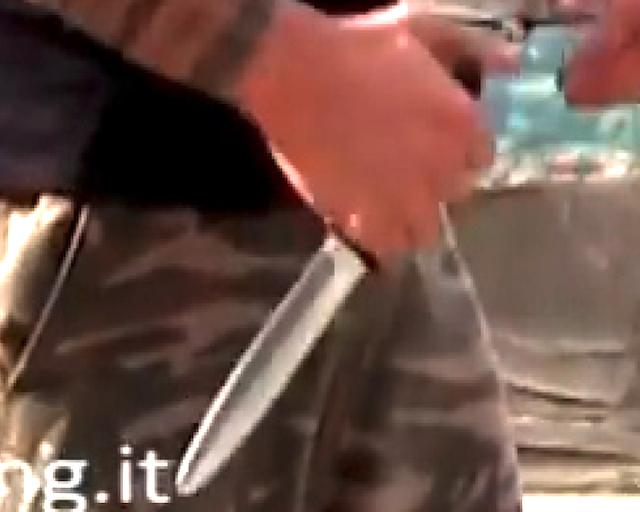long knife: (123, 36, 549, 500)
